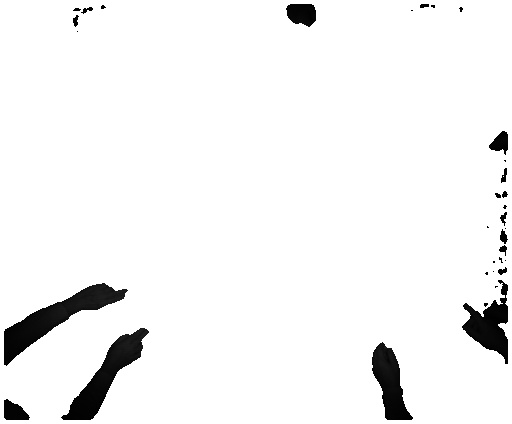hand: (456, 304, 500, 358), (368, 336, 407, 393), (106, 328, 151, 374), (75, 280, 127, 313)
